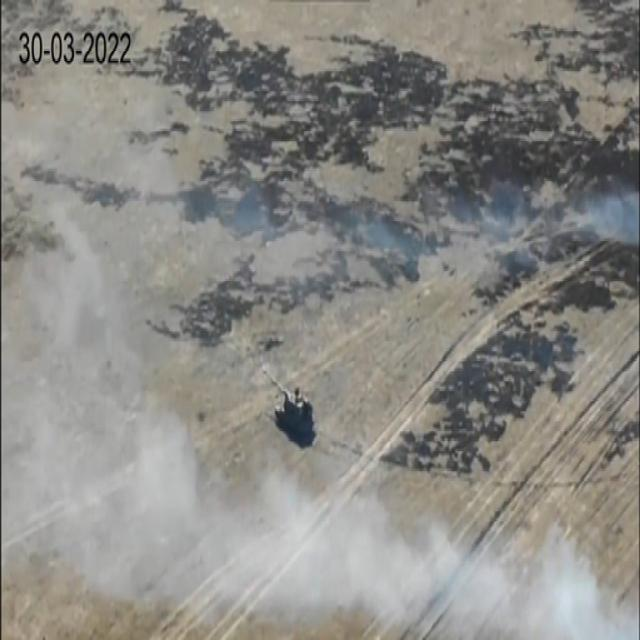ART: (258, 356, 322, 444)
